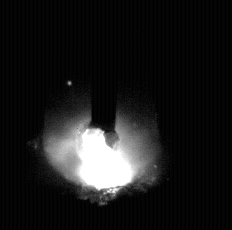arame: (91, 0, 118, 146)
poca: (44, 0, 158, 230)
